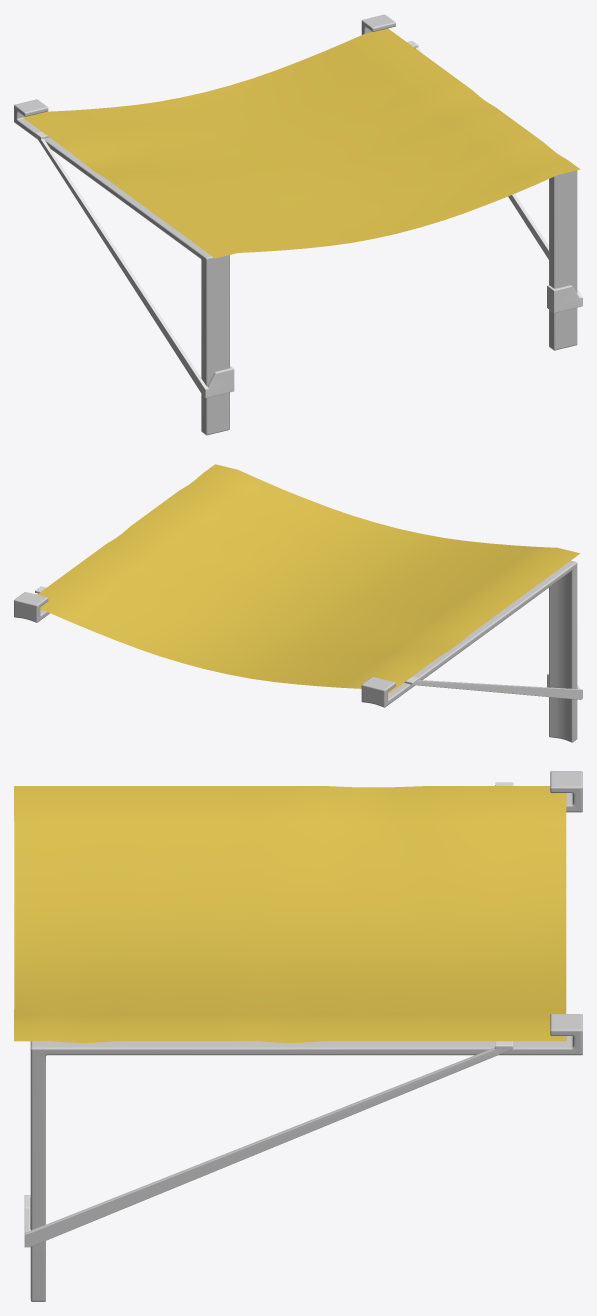
Rendered from SafetyNet.fbx.
The picture shows the model from 3 angles, top to bottom: view 1: azimuth 30°, elevation 25°; view 2: azimuth 150°, elevation 25°; view 3: azimuth 270°, elevation 25°; orthographic projection. The views are drawn at different scales.
Visible parts, largest first — view 1: Plane.055, Cube.159, Cube.160; view 2: Plane.055, Cube.159, Cube.160; view 3: Plane.055, Cube.159, Cube.160.
Part boxes in pixels (x1,y1,x2,y2): Plane.055: (23,28,580,258); Cube.159: (14,14,577,435); Cube.160: (35,41,582,398); Plane.055: (37,464,580,693); Cube.159: (14,482,577,742); Cube.160: (35,586,582,699); Plane.055: (14,786,566,1043); Cube.159: (30,771,582,1301); Cube.160: (24,782,513,1247).
Size of the model in its own units: 937 by 451 by 854.
